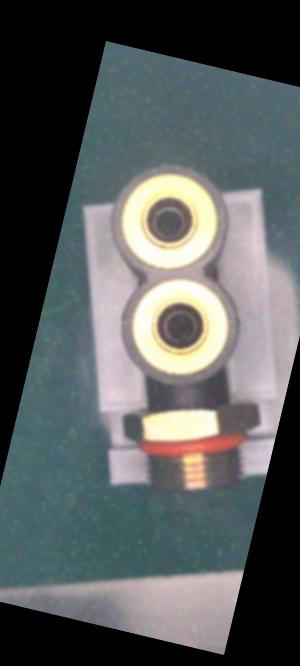white mark: (184, 391, 200, 410)
